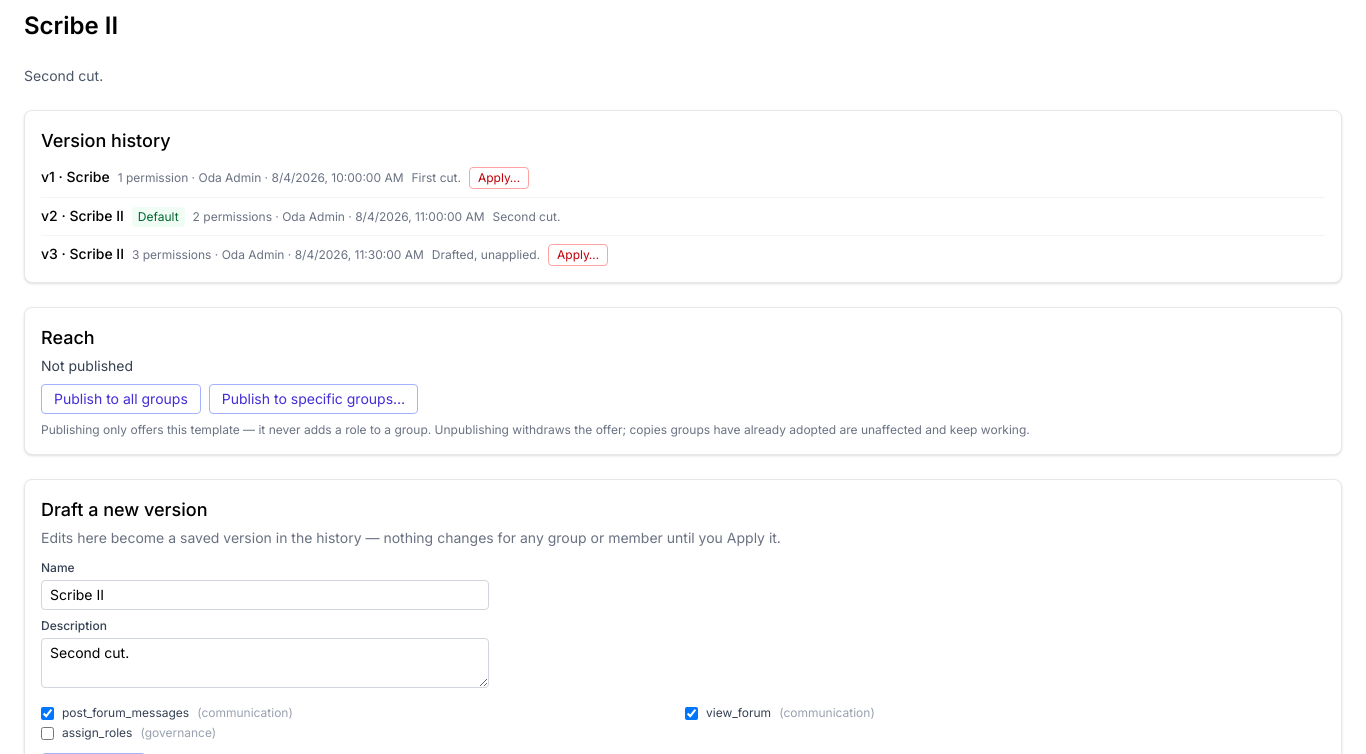
Scenario: AdminRoleTemplateDetail (FEAT-H040 STORY-2/3/4) › WA-7 guard (designed-green control): Apply still re-seeds the fabric from the newly-live set
This screenshot has width=1366, height=754.
Expected: the checkbox with test id "grant-toggle-assign_roles" is not checked, x1=41 y1=726 x2=54 y2=740
Click the button with test id "apply-version-3".
click(578, 255)  # box x1=548 y1=244 x2=608 y2=266
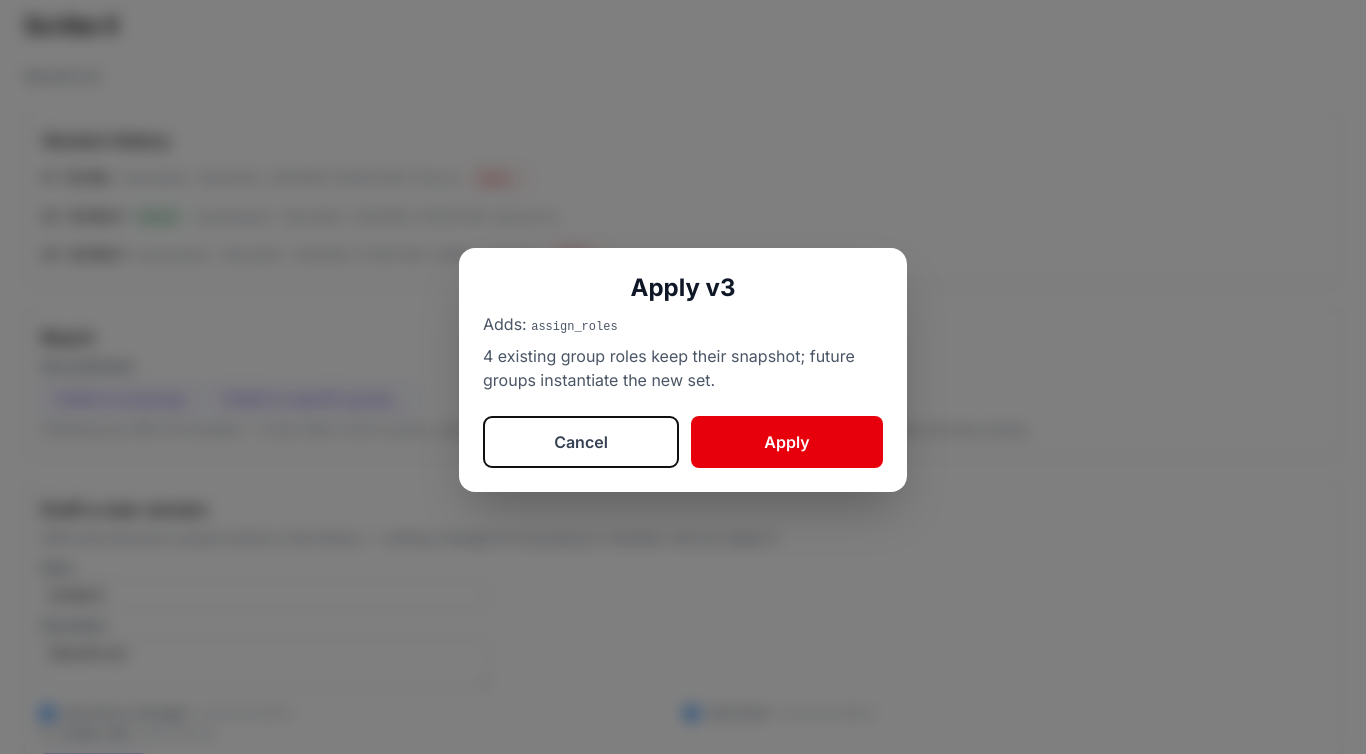
Click the button with test id "confirm-modal-confirm".
click(787, 442)  # box x1=691 y1=416 x2=883 y2=468
(page scrolled)
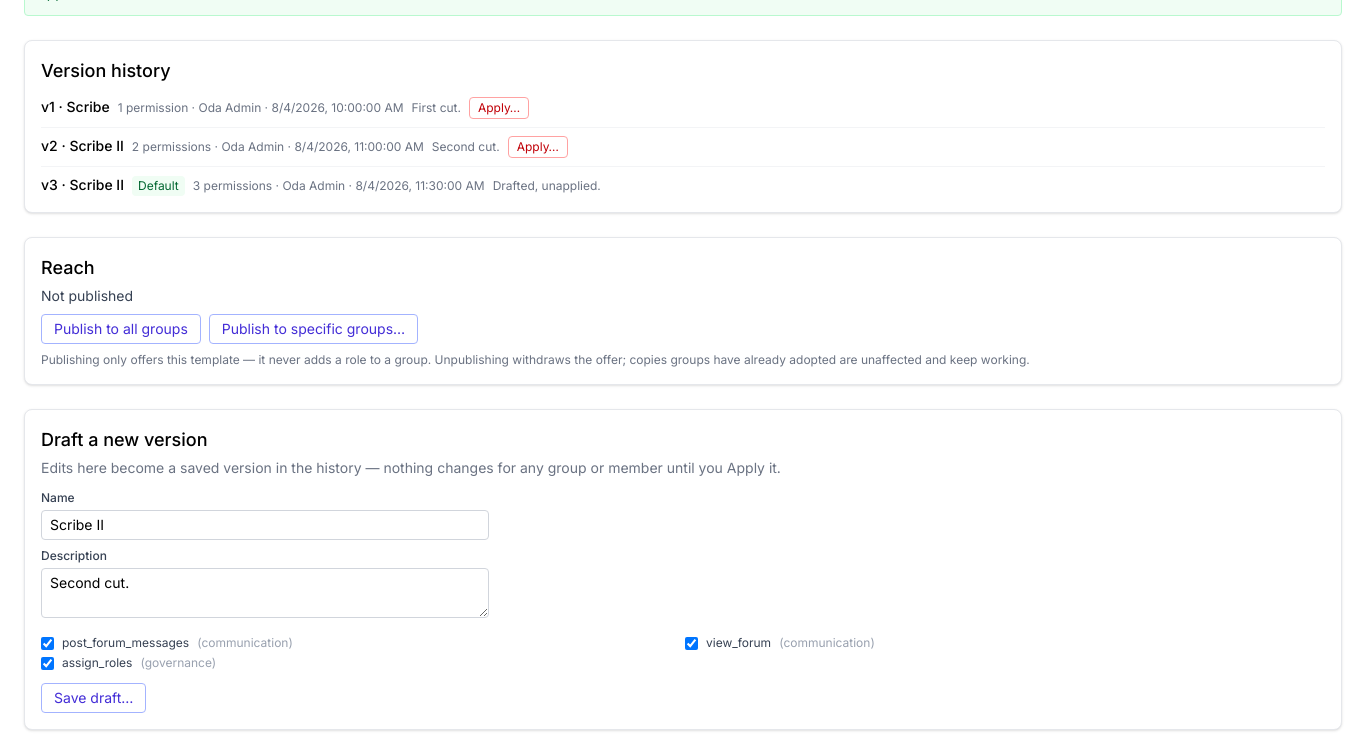
Now the checkbox with test id "grant-toggle-assign_roles" is checked, box x1=41 y1=656 x2=54 y2=670
